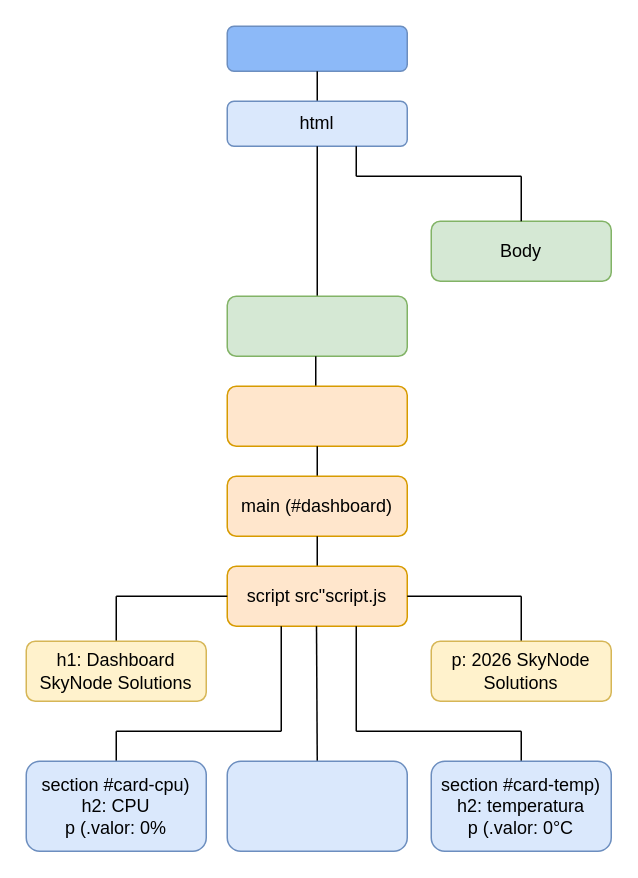
Image size: 638x878. Some labels were removed from this diagram. Each missing label, with the centre of its shape:
Document: (x=316, y=48)
Hearer: (x=316, y=325)
main: (x=316, y=415)
section #card-ram) h2: RAM p (.valor: 0GB: (x=316, y=805)
